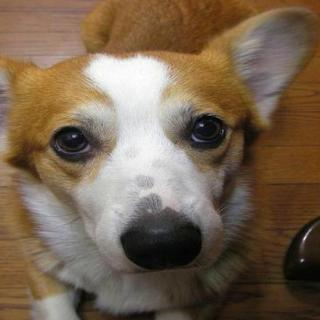dog: (0, 20, 320, 288)
nose: (120, 213, 205, 277)
